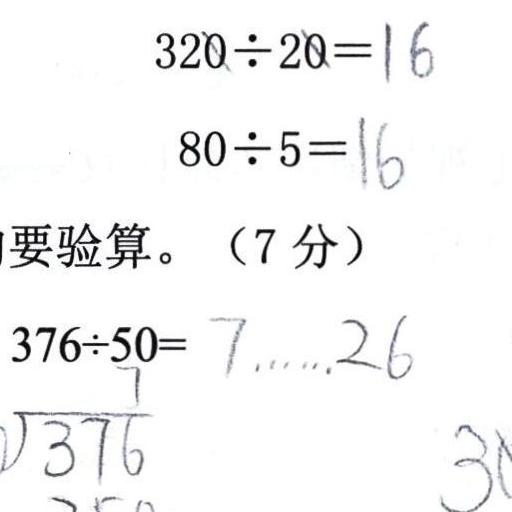ans: (203, 304, 414, 381), (350, 111, 405, 191), (374, 14, 434, 82)
